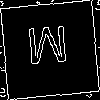M: (25, 25, 71, 75)
